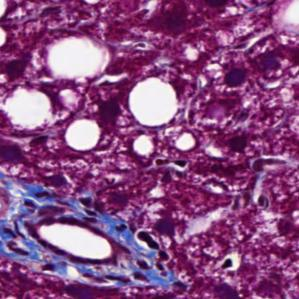inflammation: (132, 213, 177, 252), (214, 251, 242, 274)
